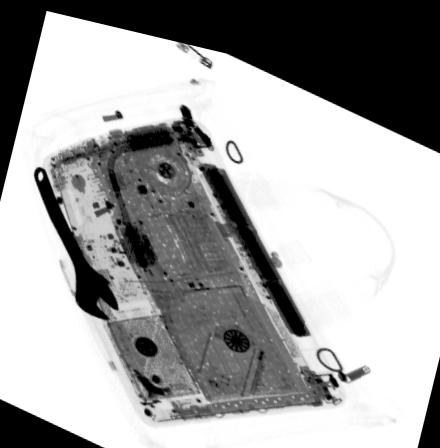Wrench: (30, 162, 118, 316)
